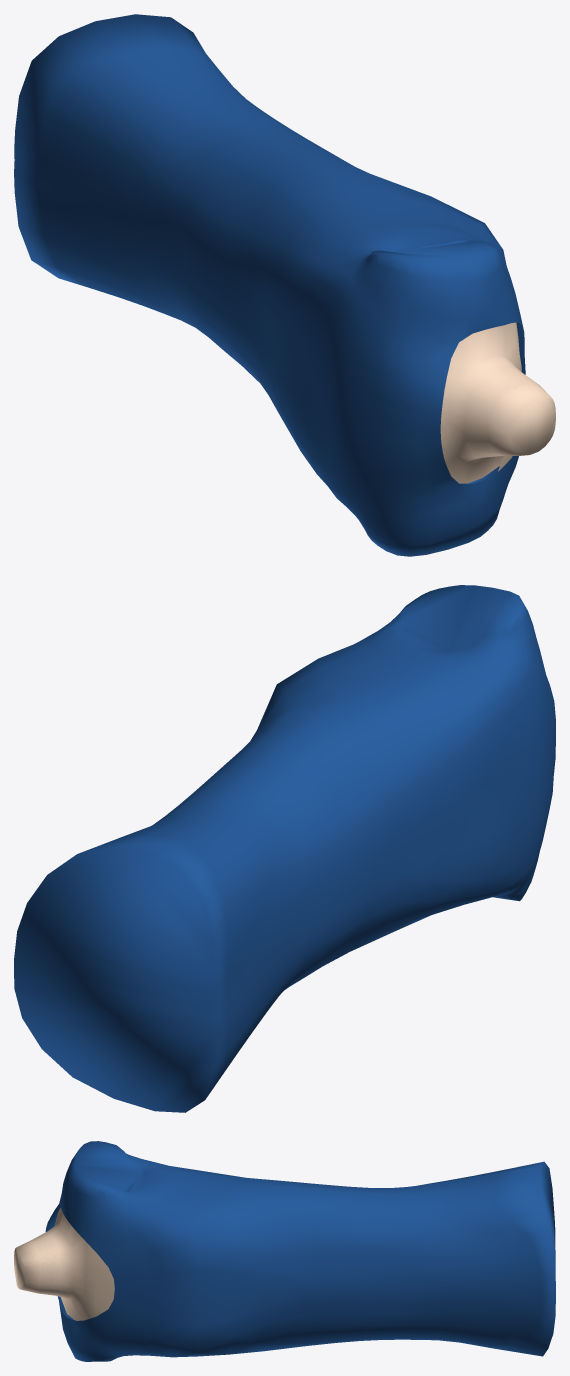
Rendered from torso.obj.
3 views of the same model, one above another, from view 1: azimuth 30°, elevation 25°; view 2: azimuth 150°, elevation 25°; view 3: azimuth 270°, elevation 25° (orthographic). The views are drawn at different scales.
Bounding box in the file's own units: 0.183 × 0.2444 × 0.6026.
Materials: 1 (1 with a texture image).
